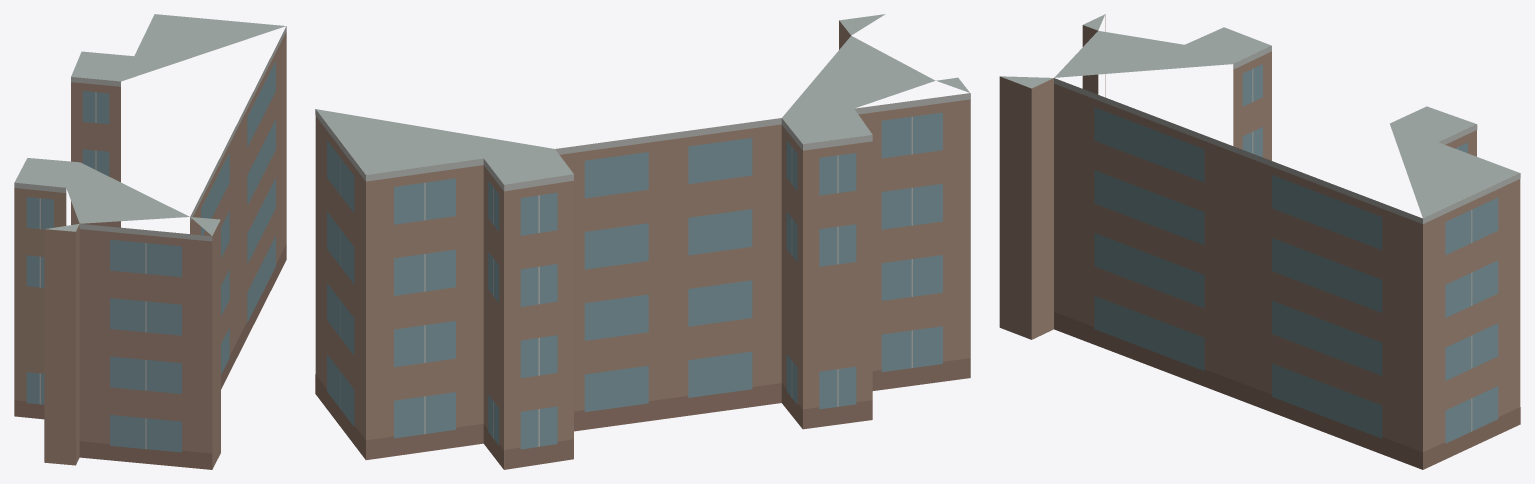
File: survey-upis-32969145.glb
3 renders of one model, left to right at view 1: azimuth 30°, elevation 25°; view 2: azimuth 150°, elevation 25°; view 3: azimuth 270°, elevation 25°, orthographic. The views are drawn at different scales.
Visible parts, largest first — view 1: survey-upis-32969145.tmp; view 2: survey-upis-32969145.tmp; view 3: survey-upis-32969145.tmp.
Part boxes in pixels (bbox=[...]): survey-upis-32969145.tmp: bbox=[14, 14, 286, 469]; survey-upis-32969145.tmp: bbox=[315, 14, 970, 469]; survey-upis-32969145.tmp: bbox=[999, 14, 1520, 469].
Bounding box in the file's own units: 18.85 × 10.8 × 20.29.
